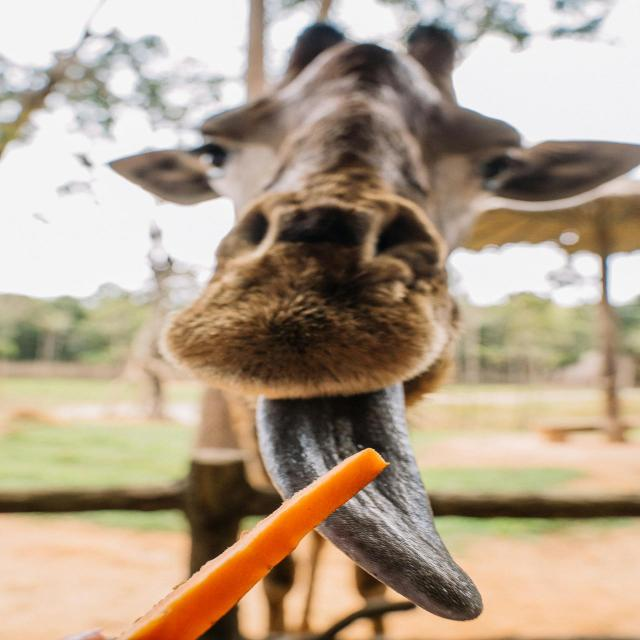Giraffe: (106, 22, 640, 640)
